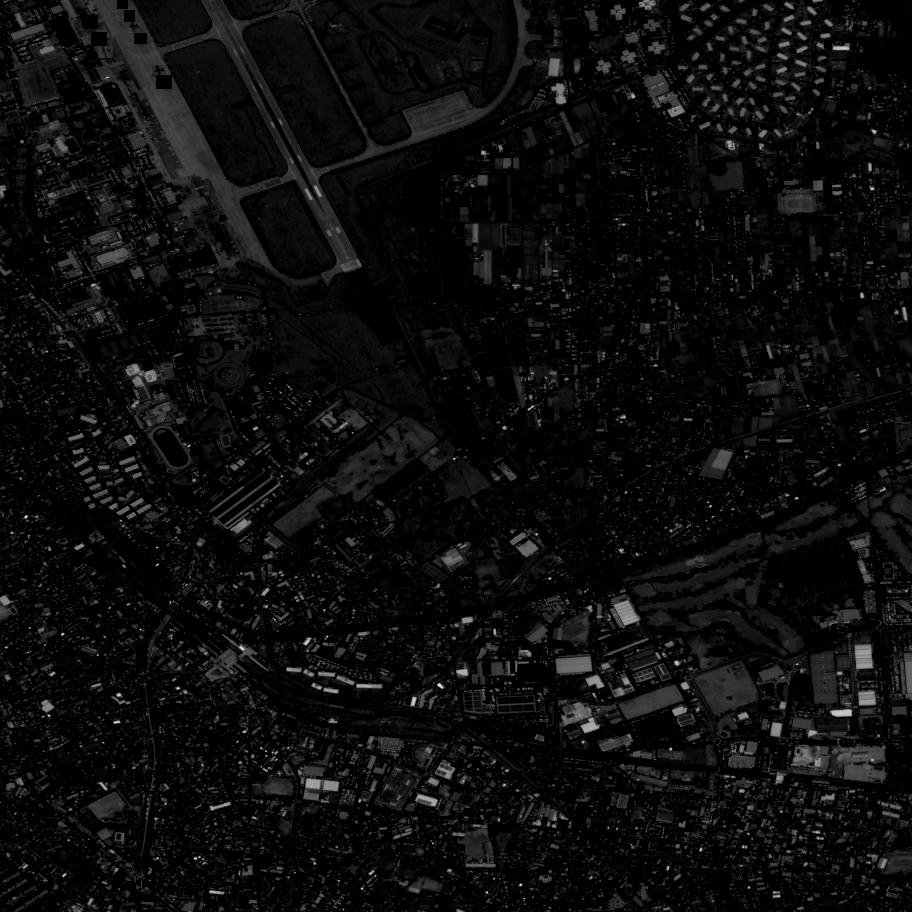plane: (91, 31, 107, 47), (156, 75, 172, 91), (83, 15, 98, 31), (99, 45, 114, 61), (153, 64, 166, 78), (124, 10, 135, 22), (135, 34, 147, 44), (130, 22, 140, 33), (118, 0, 127, 9), (219, 215, 226, 221)
